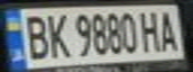0: (121, 9, 142, 54)
8: (90, 9, 109, 56), (106, 9, 124, 55)
9: (72, 9, 93, 58)
A: (157, 7, 184, 53)
B: (18, 10, 51, 61)
H: (136, 8, 163, 53)
K: (42, 10, 72, 60)
